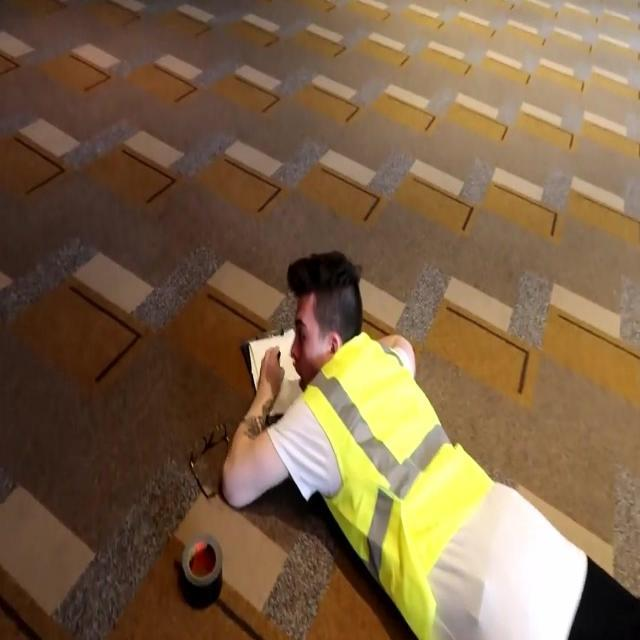reflective_jacket: (299, 333, 496, 634)
